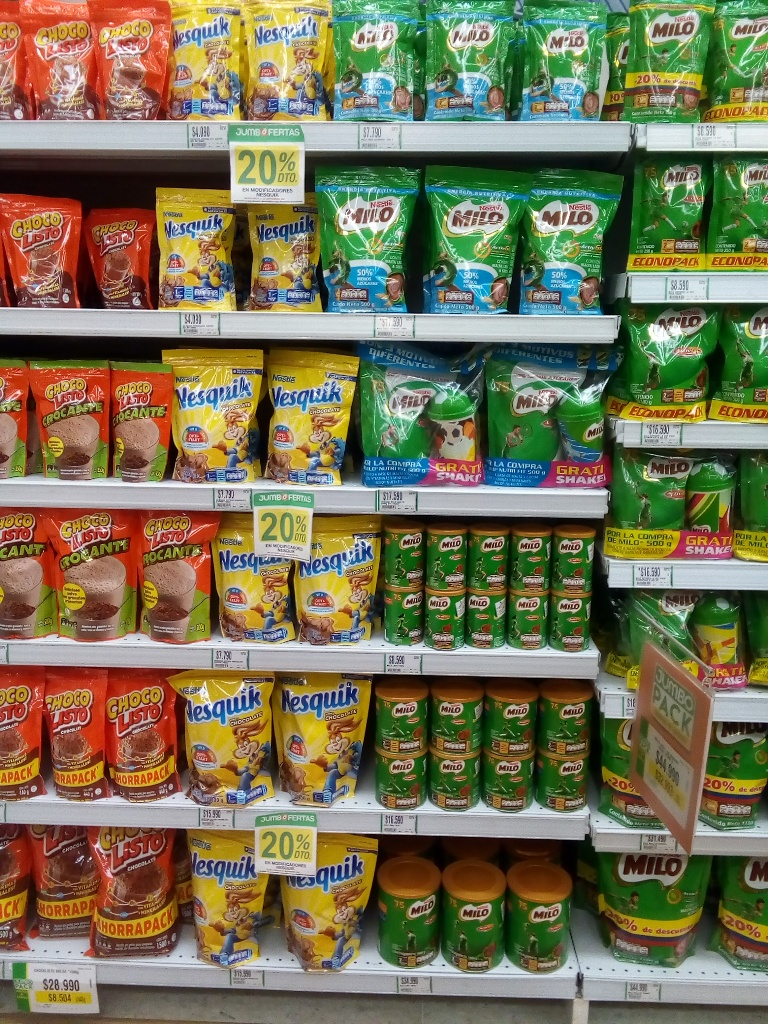COL0170102DYP25000: (24, 361, 113, 485)
COL0170102DYP50000: (1, 506, 60, 642)
COL0170103DYP1,500: (83, 825, 186, 960)
COL0170103DYP20000: (14, 1, 97, 118)
COL0170103DYP44000: (106, 667, 183, 800)
COL0170203DYP25000: (624, 3, 717, 130)
COL0170203DYP50000: (605, 438, 689, 571)
COL0170203LAT20000: (549, 588, 595, 655)
COL0170203LAT40000: (543, 682, 595, 757)
COL0170205DYP20000: (331, 0, 421, 124)
COL0170205DYP50000: (313, 162, 417, 313)
COL0170303DYP20000: (243, 3, 330, 121)
